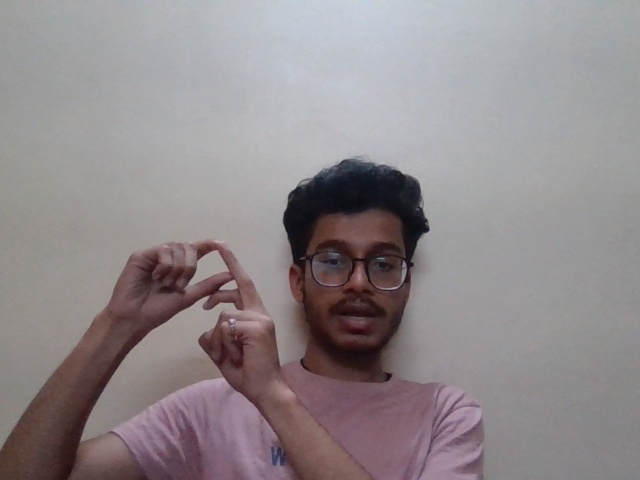R: (104, 235, 288, 400)
